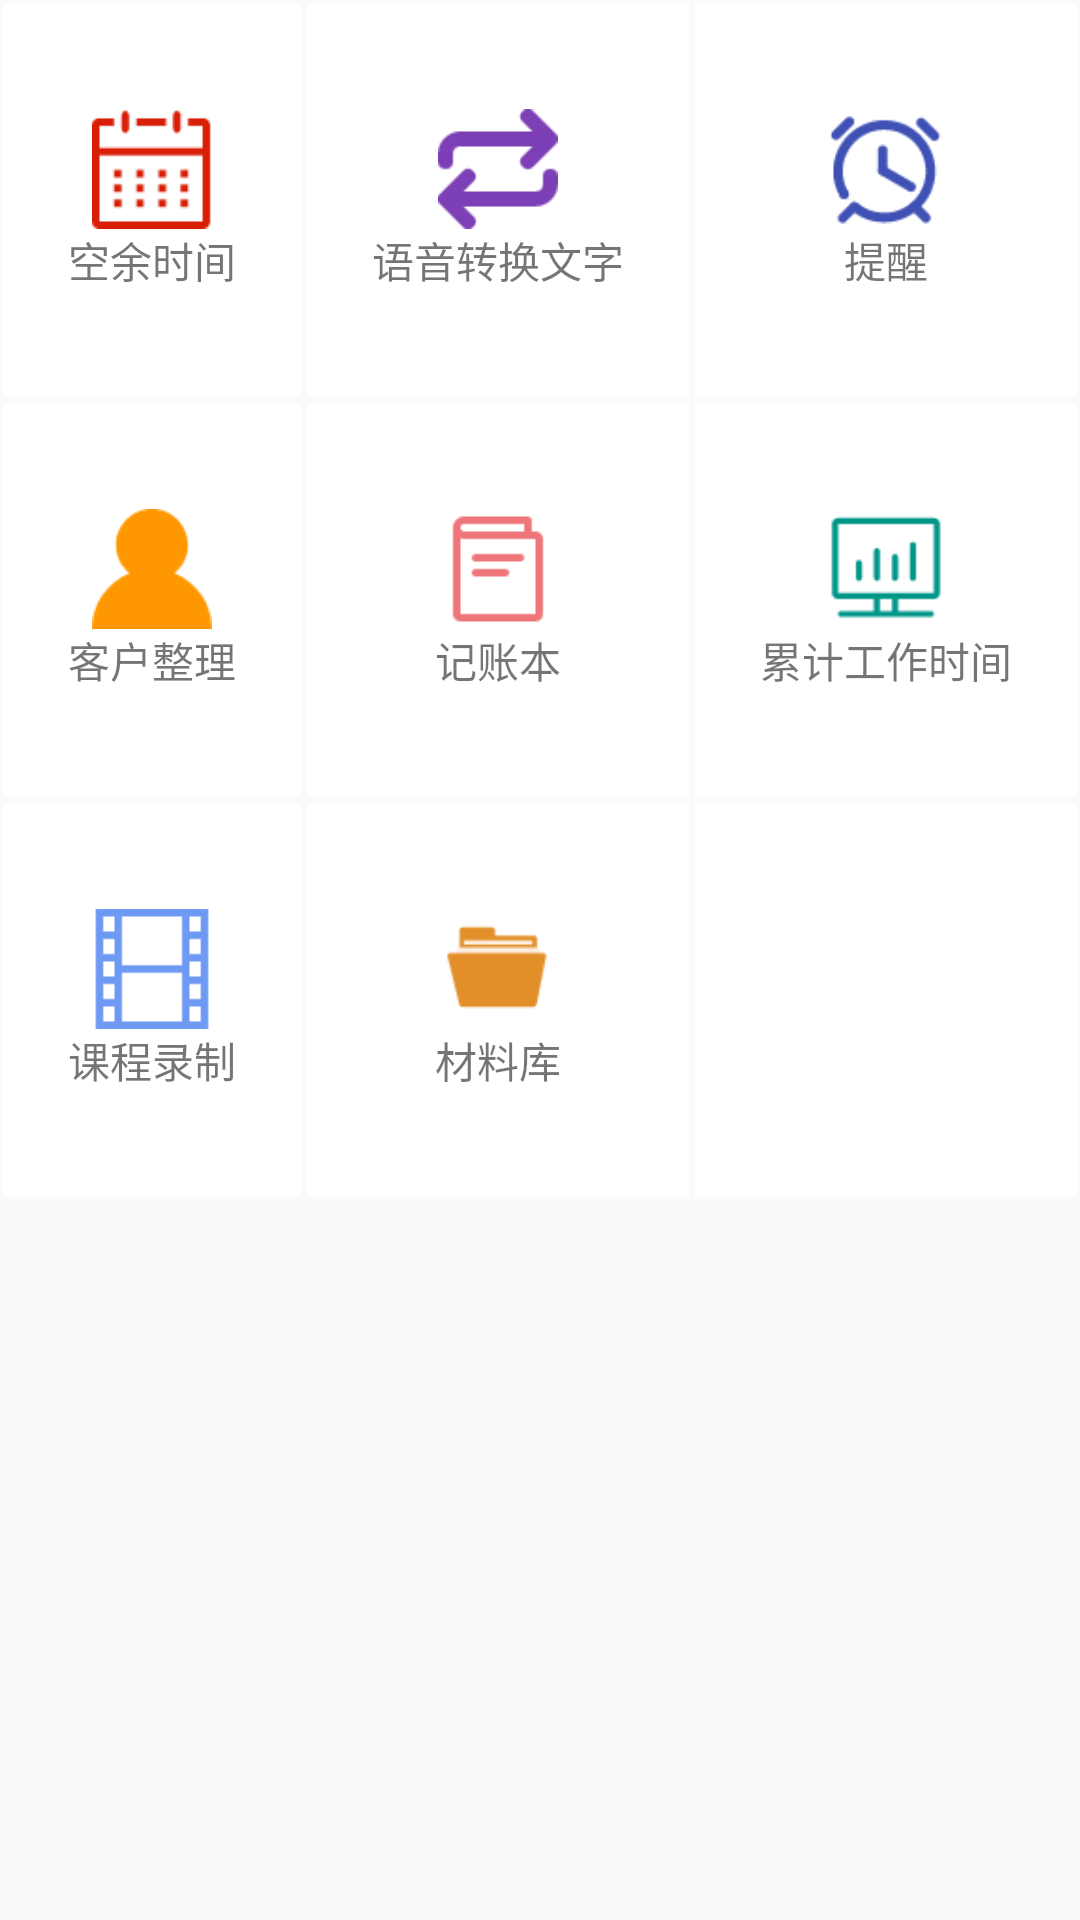

Icon click points for this 1080w x 1920h phone screenshot, format [x,y]:
alarm: [886,170]
calendar: [151,169]
transfer: [498,169]
